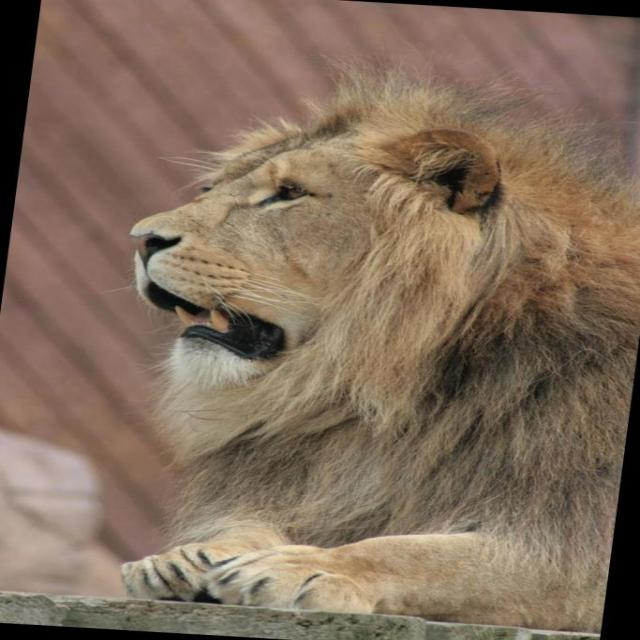Lion: (58, 43, 639, 628)
